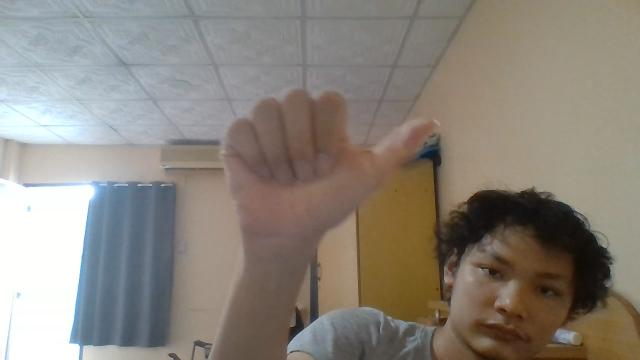left: (220, 87, 440, 263)
